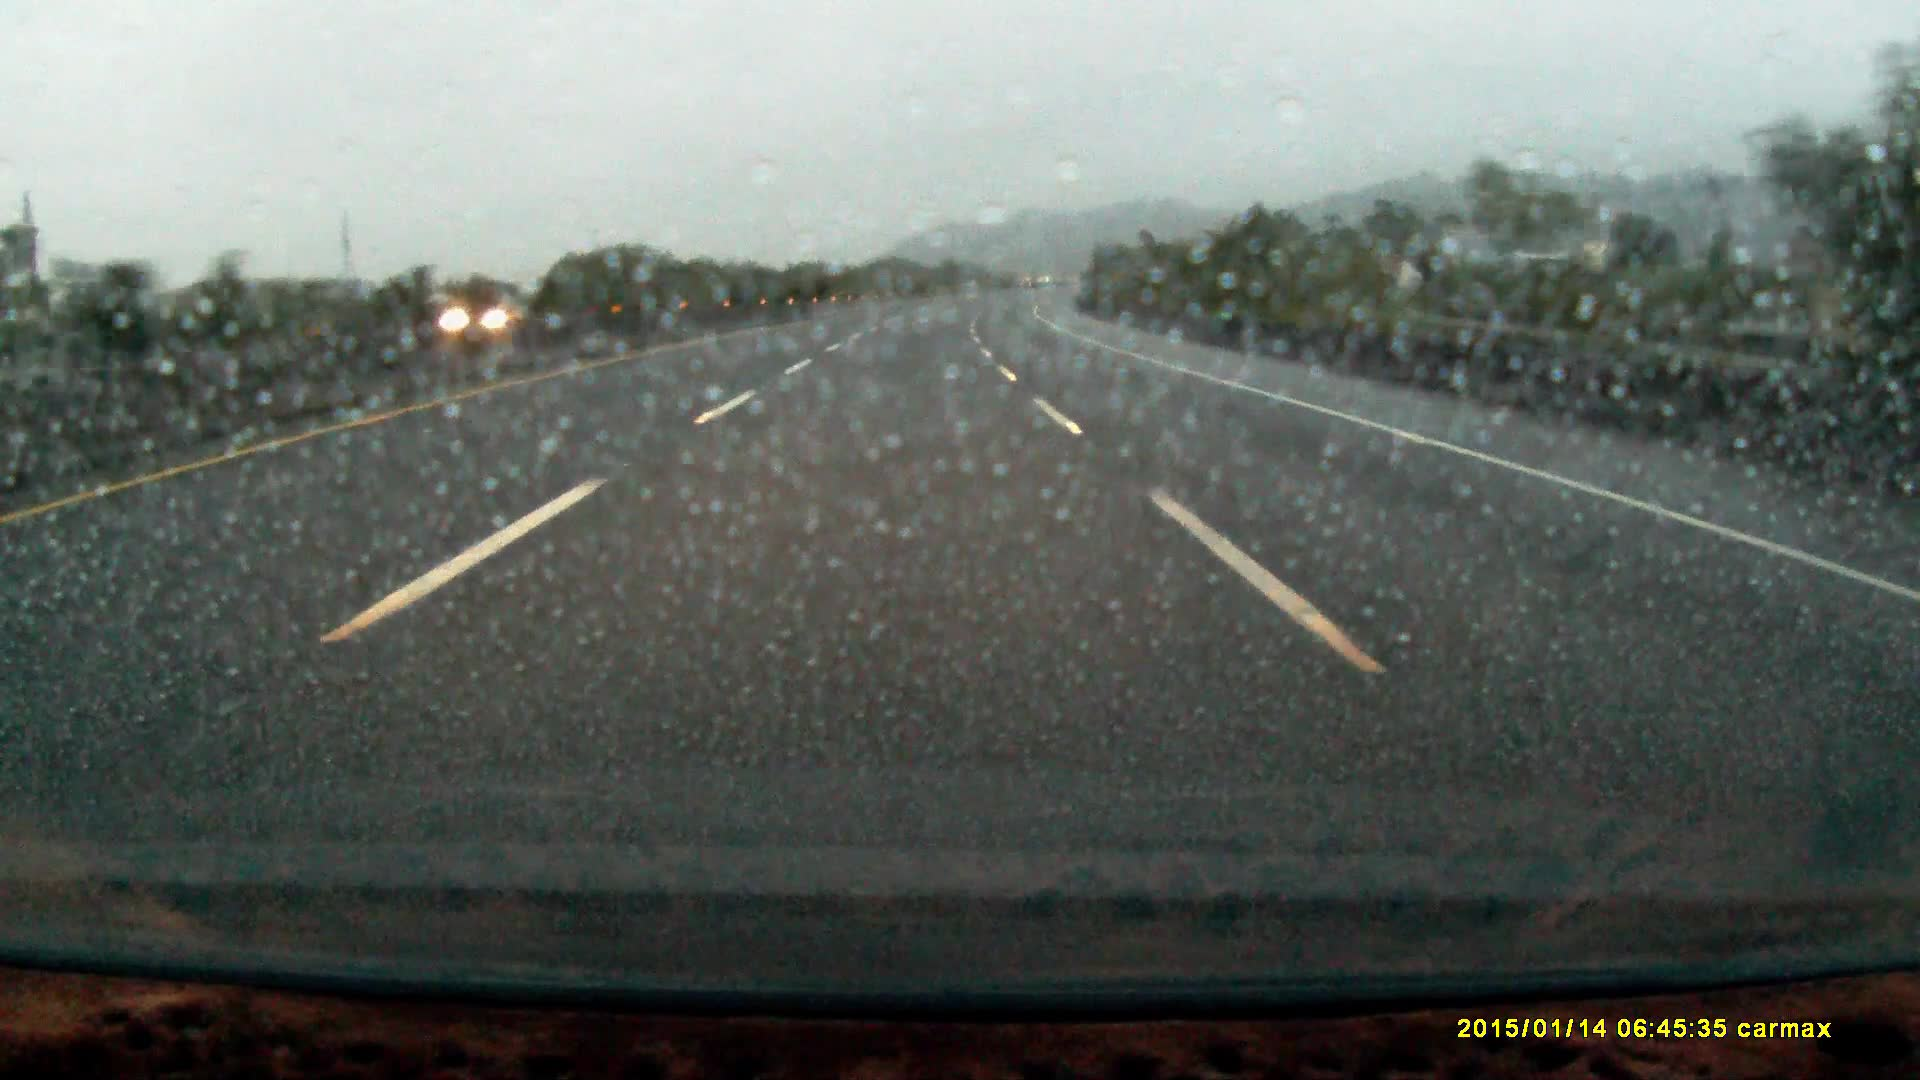vehicle: (436, 295, 527, 334)
